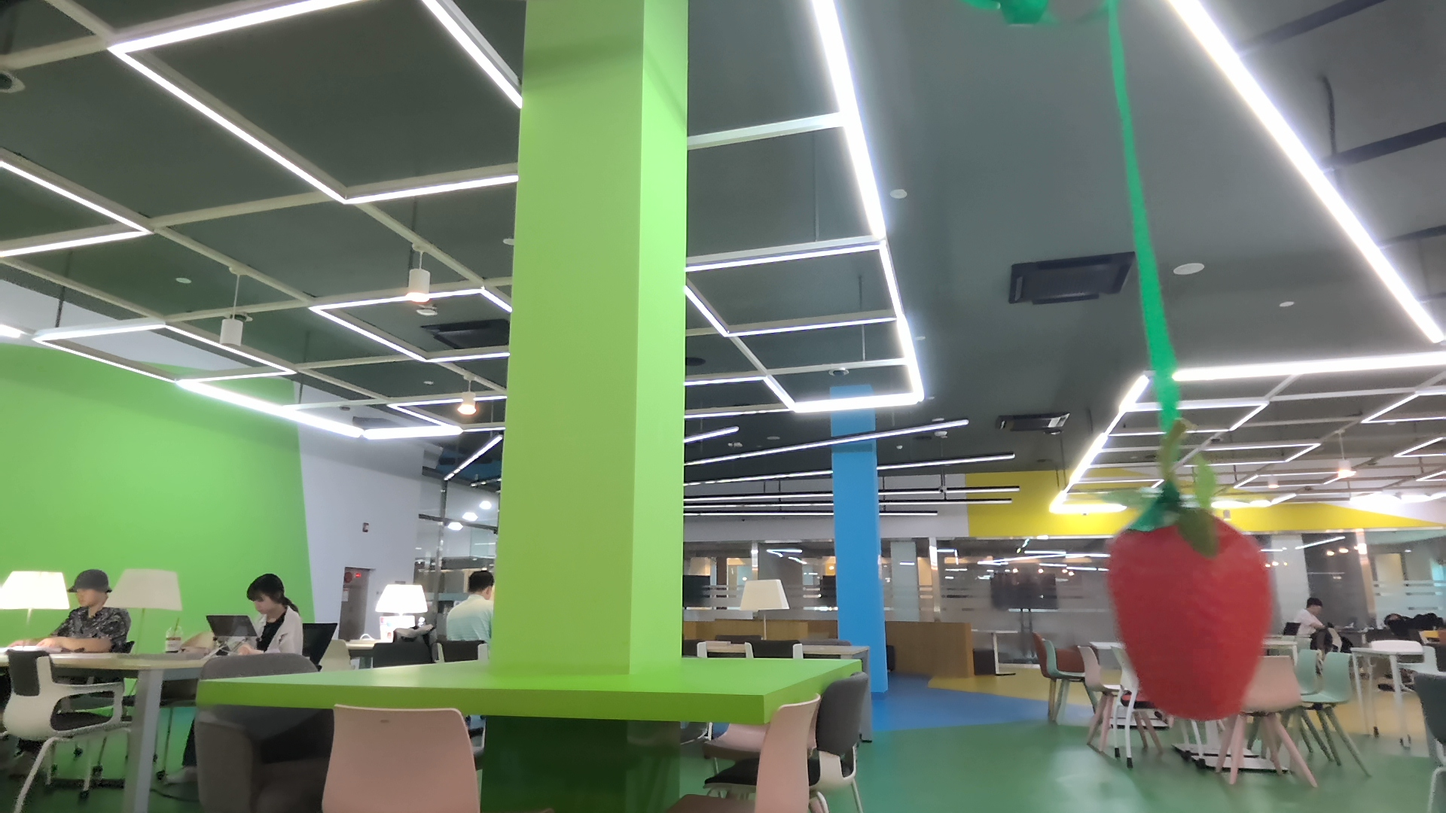strawberry: (1088, 496, 1287, 732)
